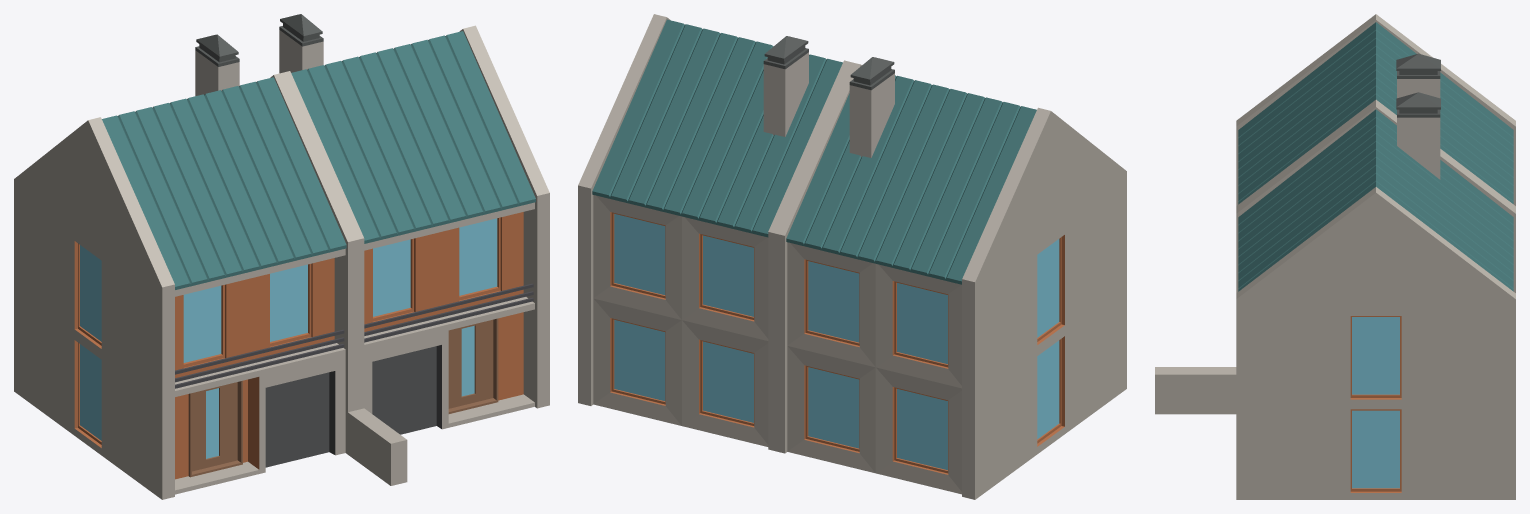
File: SM_Motel_01_A.gltf
The picture shows the model from 3 angles, left to right: view 1: azimuth 30°, elevation 25°; view 2: azimuth 150°, elevation 25°; view 3: azimuth 270°, elevation 25°; orthographic projection. The views are drawn at different scales.
Parts seen in each view (by area): view 1: SM_Motel_01_A; view 2: SM_Motel_01_A; view 3: SM_Motel_01_A.
Boxes of the visible parts, x1=… form: SM_Motel_01_A: x1=14, y1=14, x2=549, y2=499; SM_Motel_01_A: x1=578, y1=14, x2=1126, y2=499; SM_Motel_01_A: x1=1155, y1=14, x2=1515, y2=499.
Size of the model in its own units: 4.54 by 4 by 3.88.
